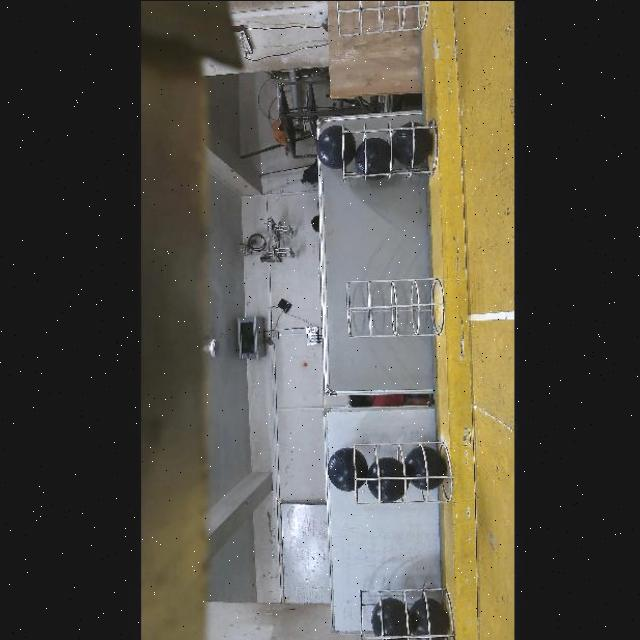P: (327, 449, 368, 490), (410, 600, 451, 640), (393, 129, 432, 171), (354, 139, 390, 181), (319, 127, 358, 165), (369, 602, 408, 640), (405, 445, 442, 485), (367, 461, 405, 499)
S: (343, 264, 461, 336), (338, 111, 440, 179), (351, 439, 453, 506), (356, 592, 450, 640), (334, 0, 430, 36)
